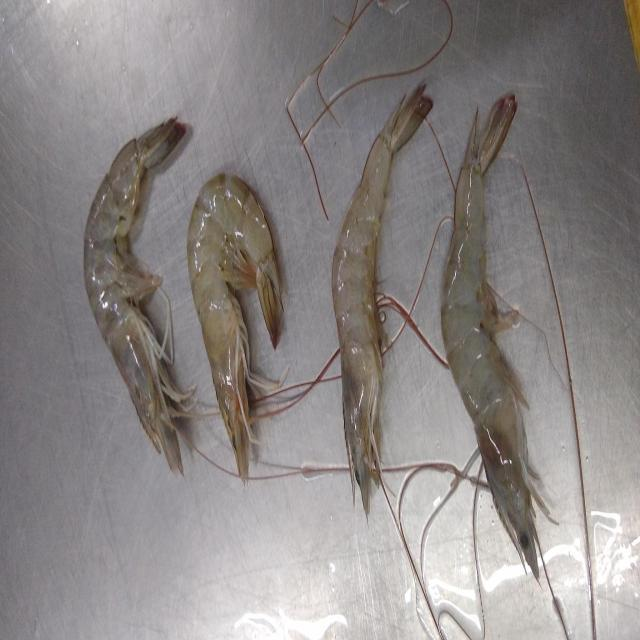shrimp: (441, 93, 551, 580), (332, 84, 432, 516), (84, 118, 194, 473), (188, 173, 282, 482)
